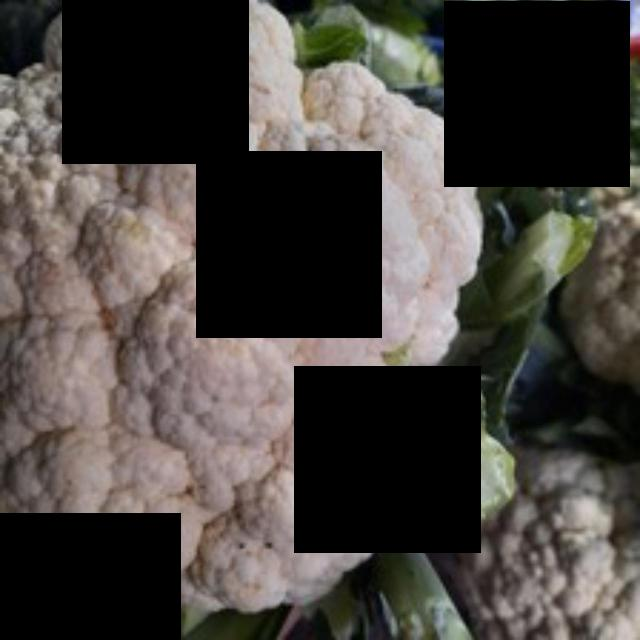cauliflower: (0, 0, 493, 638)
